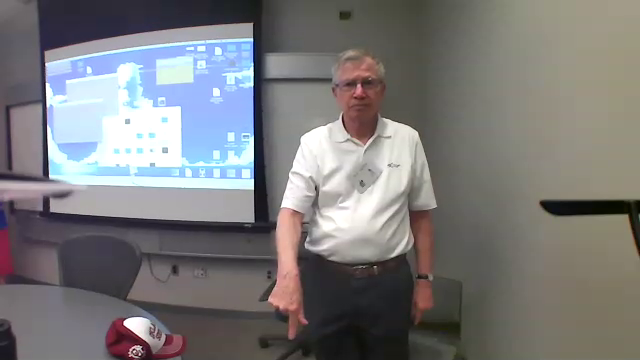down: (264, 265, 312, 346), (411, 280, 440, 331)
